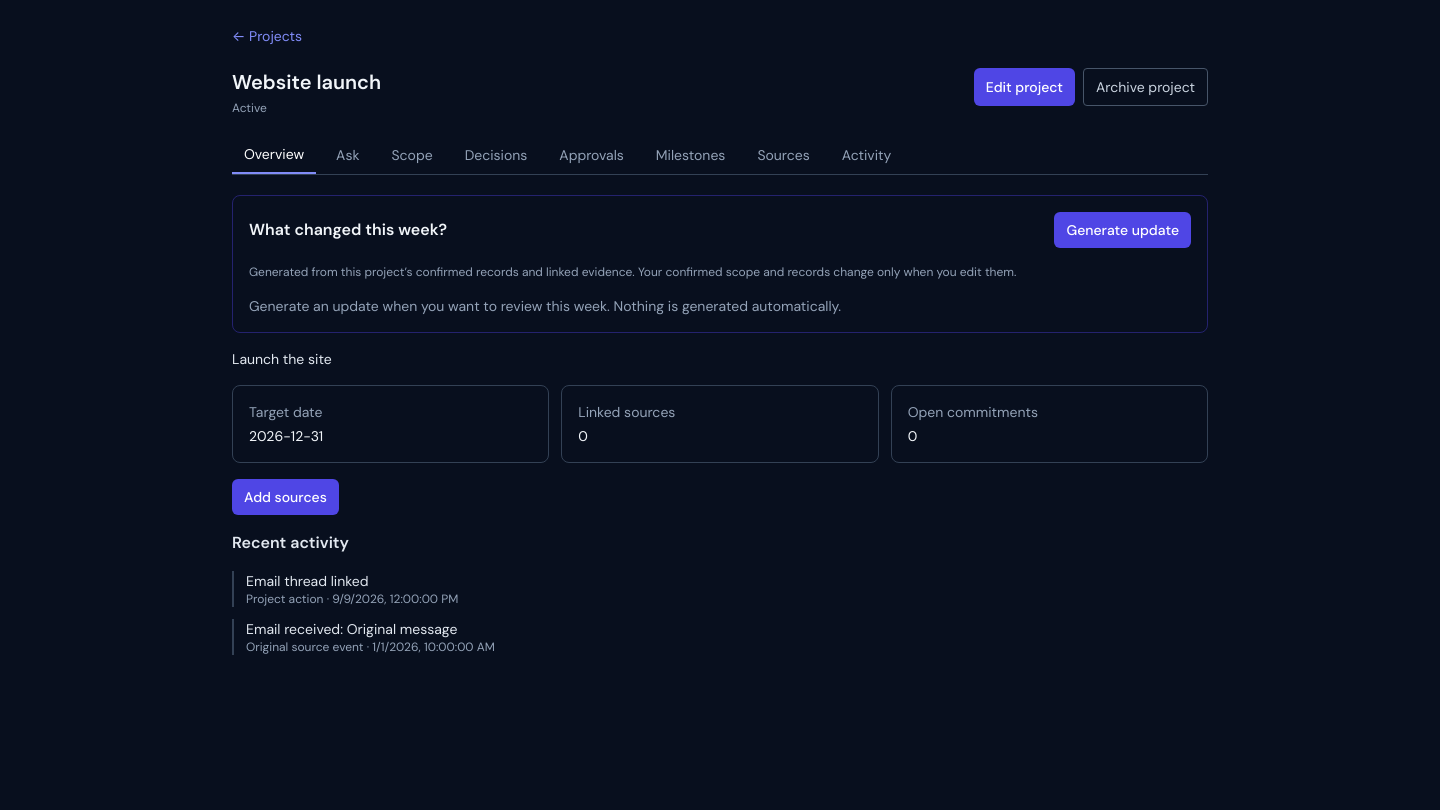
Test: edits and archives/reopens a project
Click the button "Edit project": coordinates (1024, 87) [974,68,1075,106]
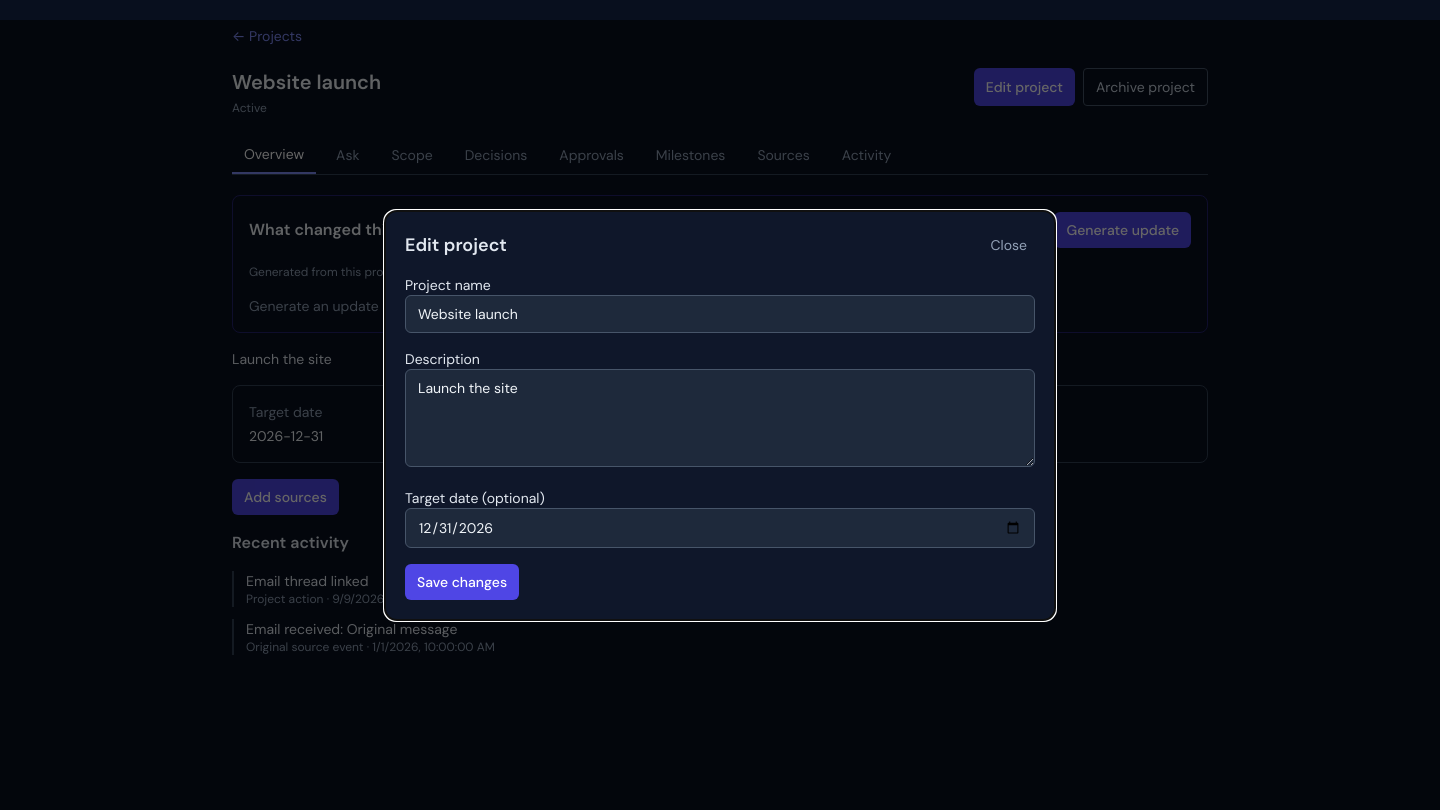
Replace the text in the field labelled "Project name" with "Launch v2": coordinates (720, 314) [405,294,1035,332]
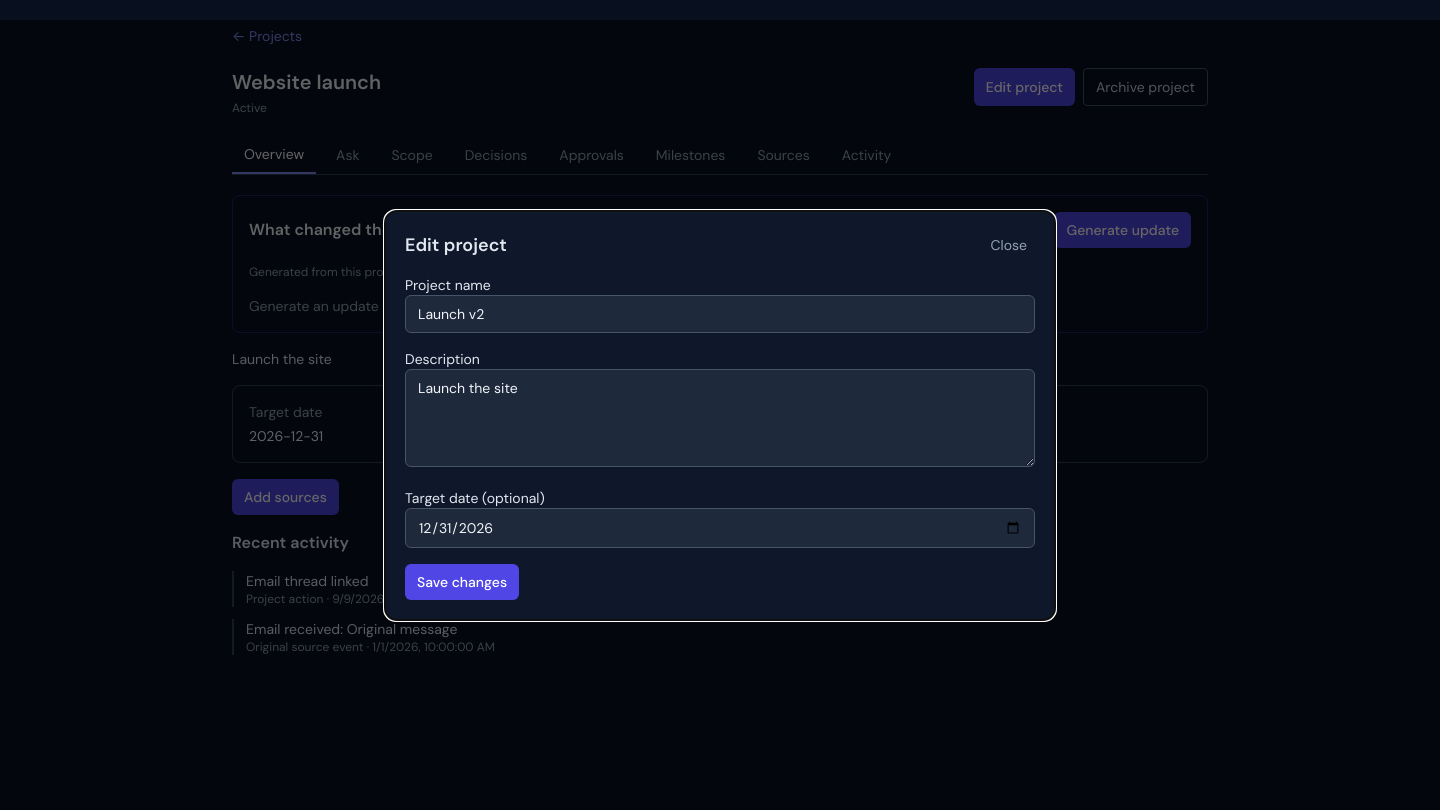
Click the button "Save changes": coordinates (462, 582) [405,564,519,600]
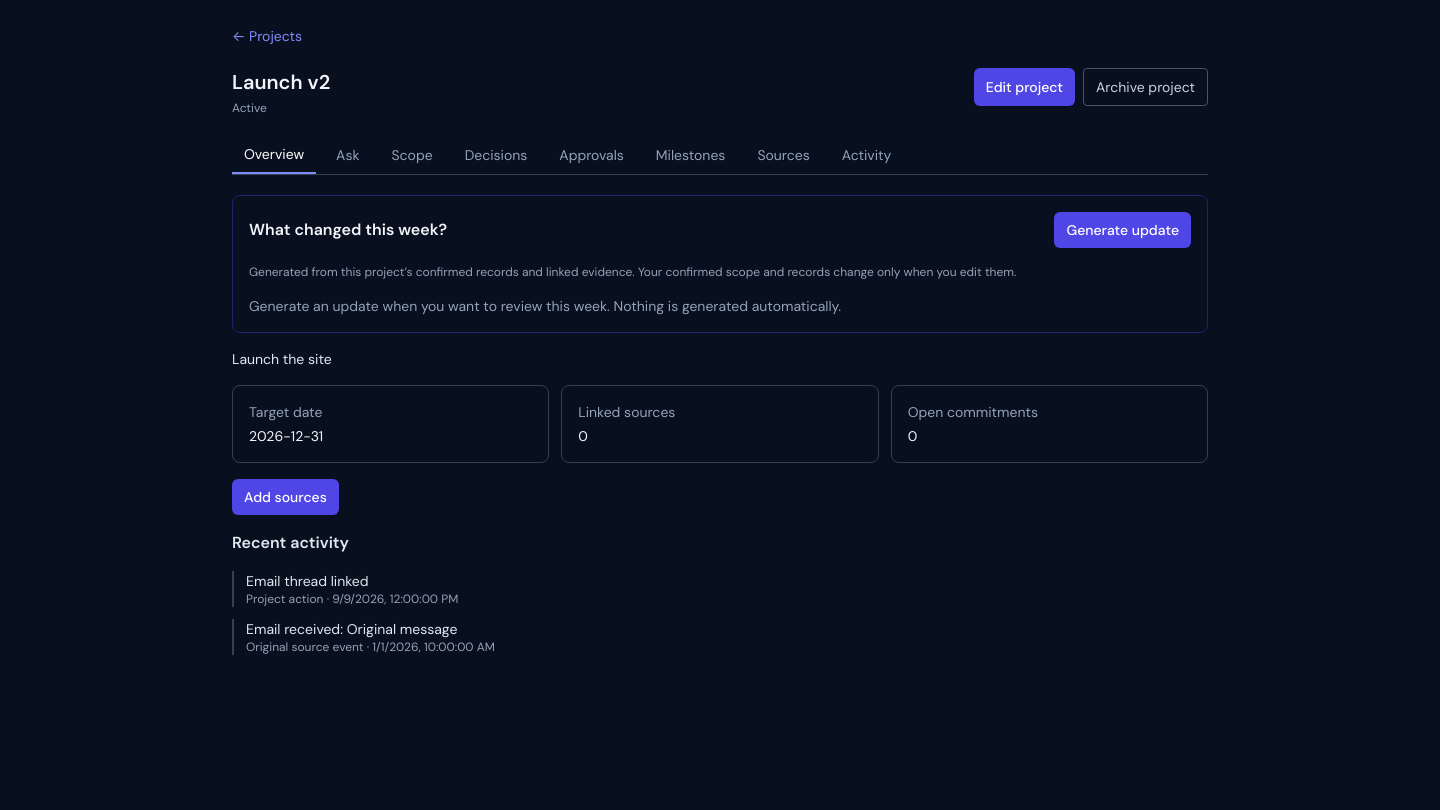
Now the heading "Launch v2" is shown, box [232,68,330,96]
Click the button "Archive project": coordinates (1146, 87) [1083,68,1208,106]
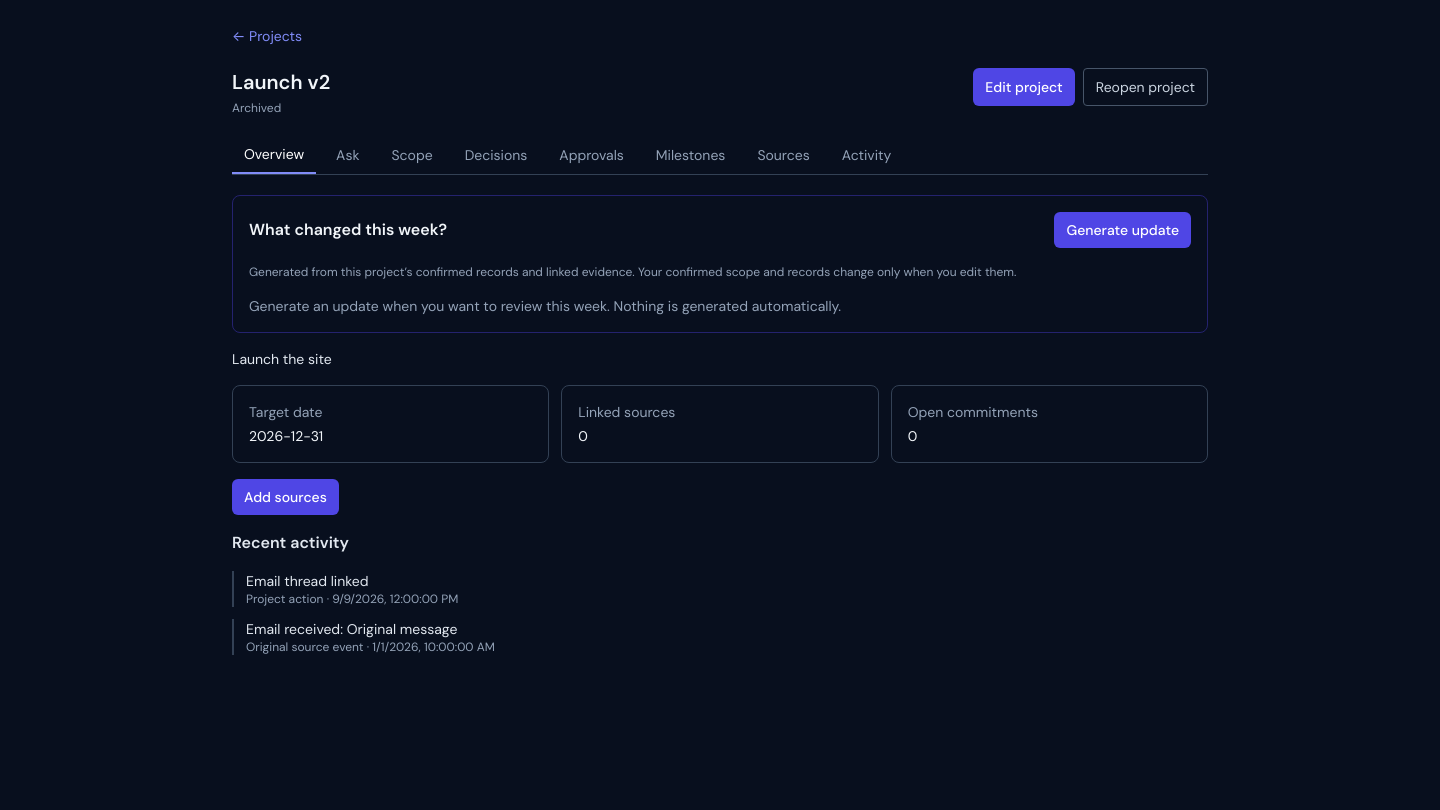
Click the button "Reopen project": coordinates (1145, 87) [1083,68,1208,106]
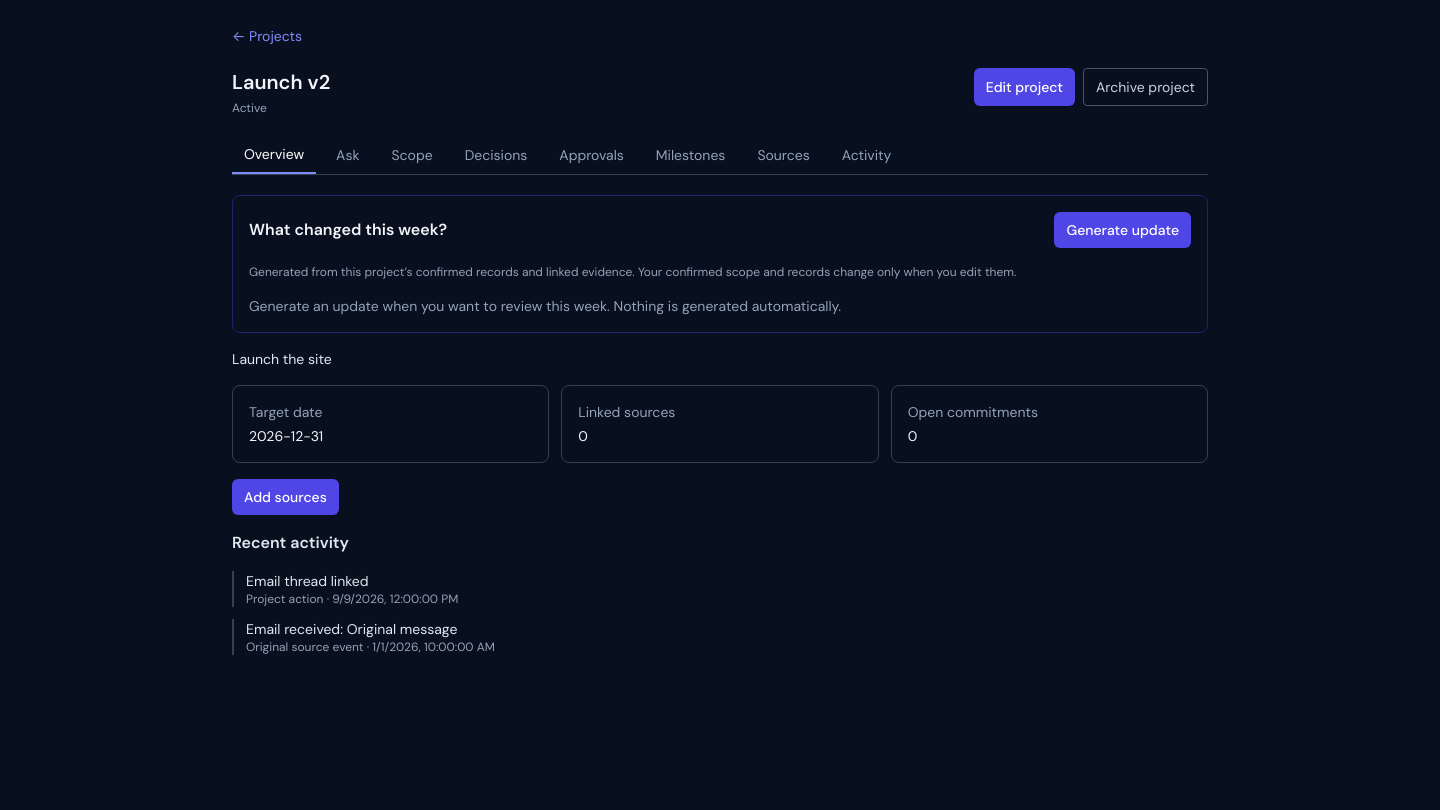
Now the button "Archive project" is shown, box [1083,68,1208,106]
